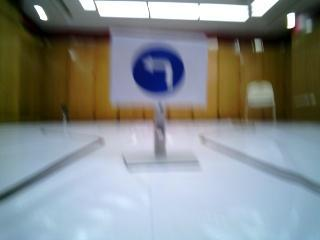left: (112, 40, 198, 105)
